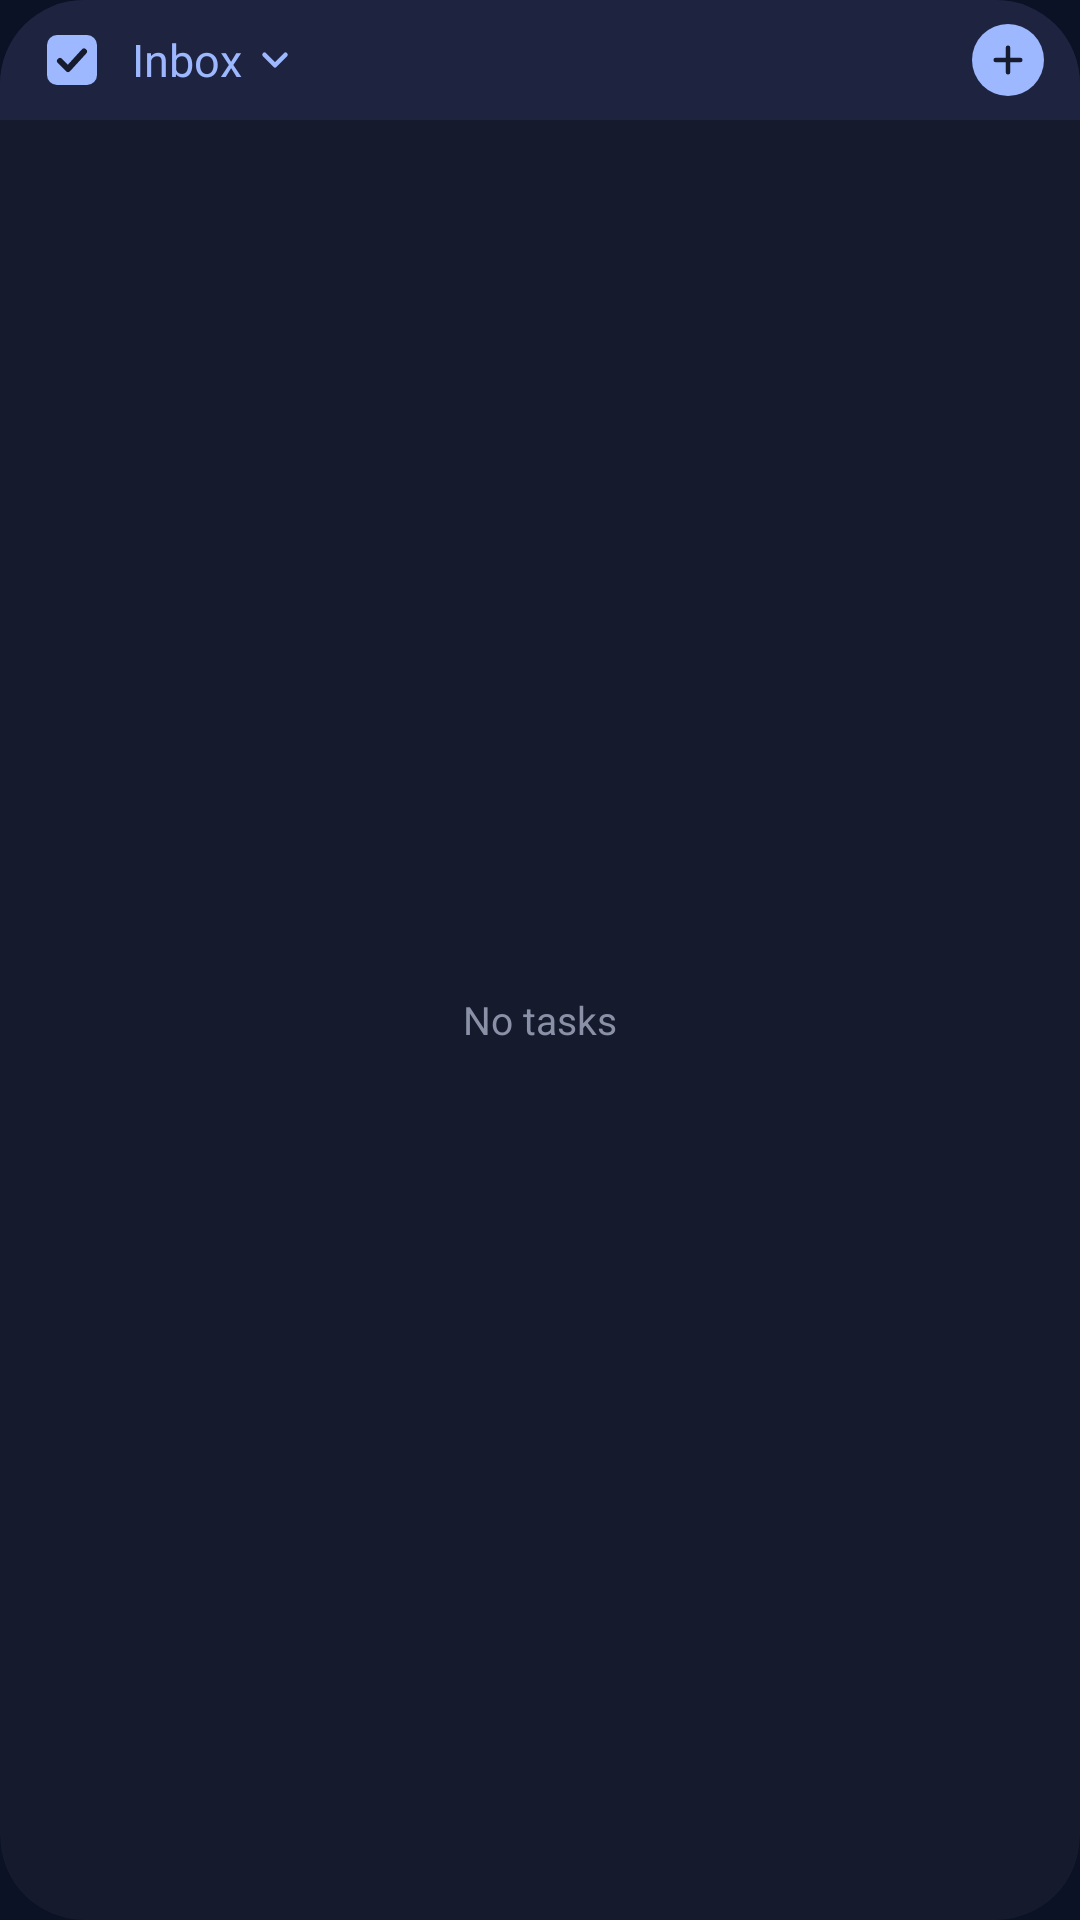

Named icons in this screenshot (1080px×1920px) and their centers, (x,y):
widget add: (1008,60)
widget chevron: (275,60)
